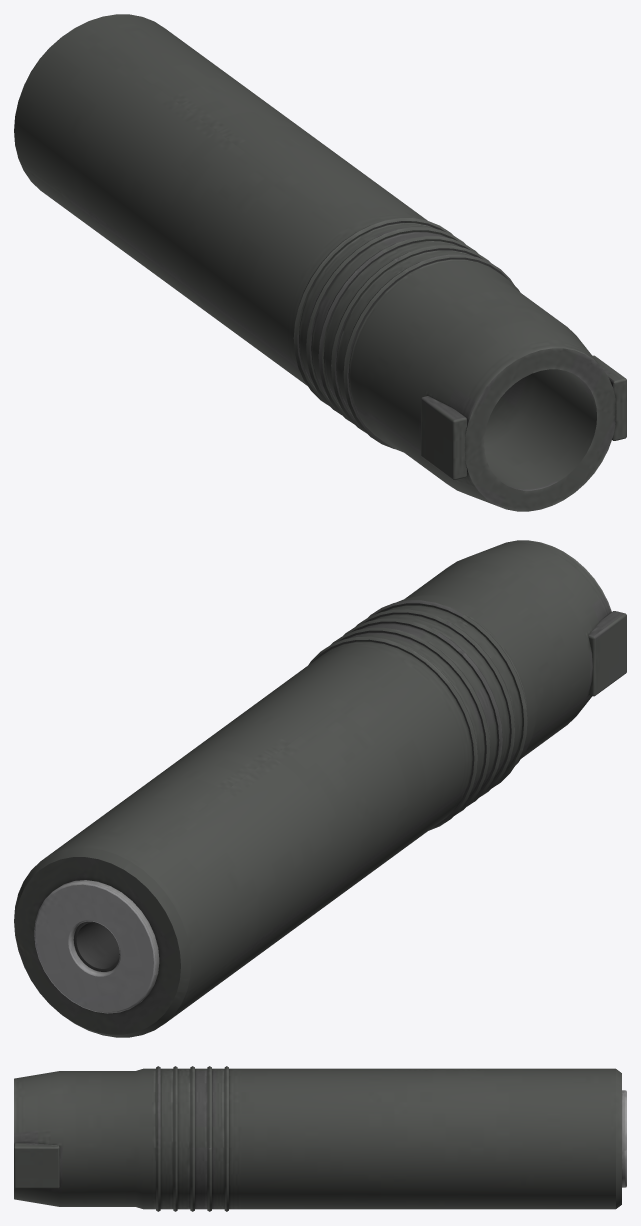
Rendered from suppressor.glb.
The picture shows the model from 3 angles, top to bottom: view 1: azimuth 30°, elevation 25°; view 2: azimuth 150°, elevation 25°; view 3: azimuth 270°, elevation 25°; orthographic projection. The views are drawn at different scales.
Visible parts, largest first — view 1: body; view 2: body; view 3: body.
Part boxes in pixels (x1,y1,x2,y2): body: (14,14,626,511); body: (14,540,626,1037); body: (14,1066,626,1211).
Size of the model in its own units: 0.0384 by 0.0384 by 0.1613.
2 materials, 2 textured.
